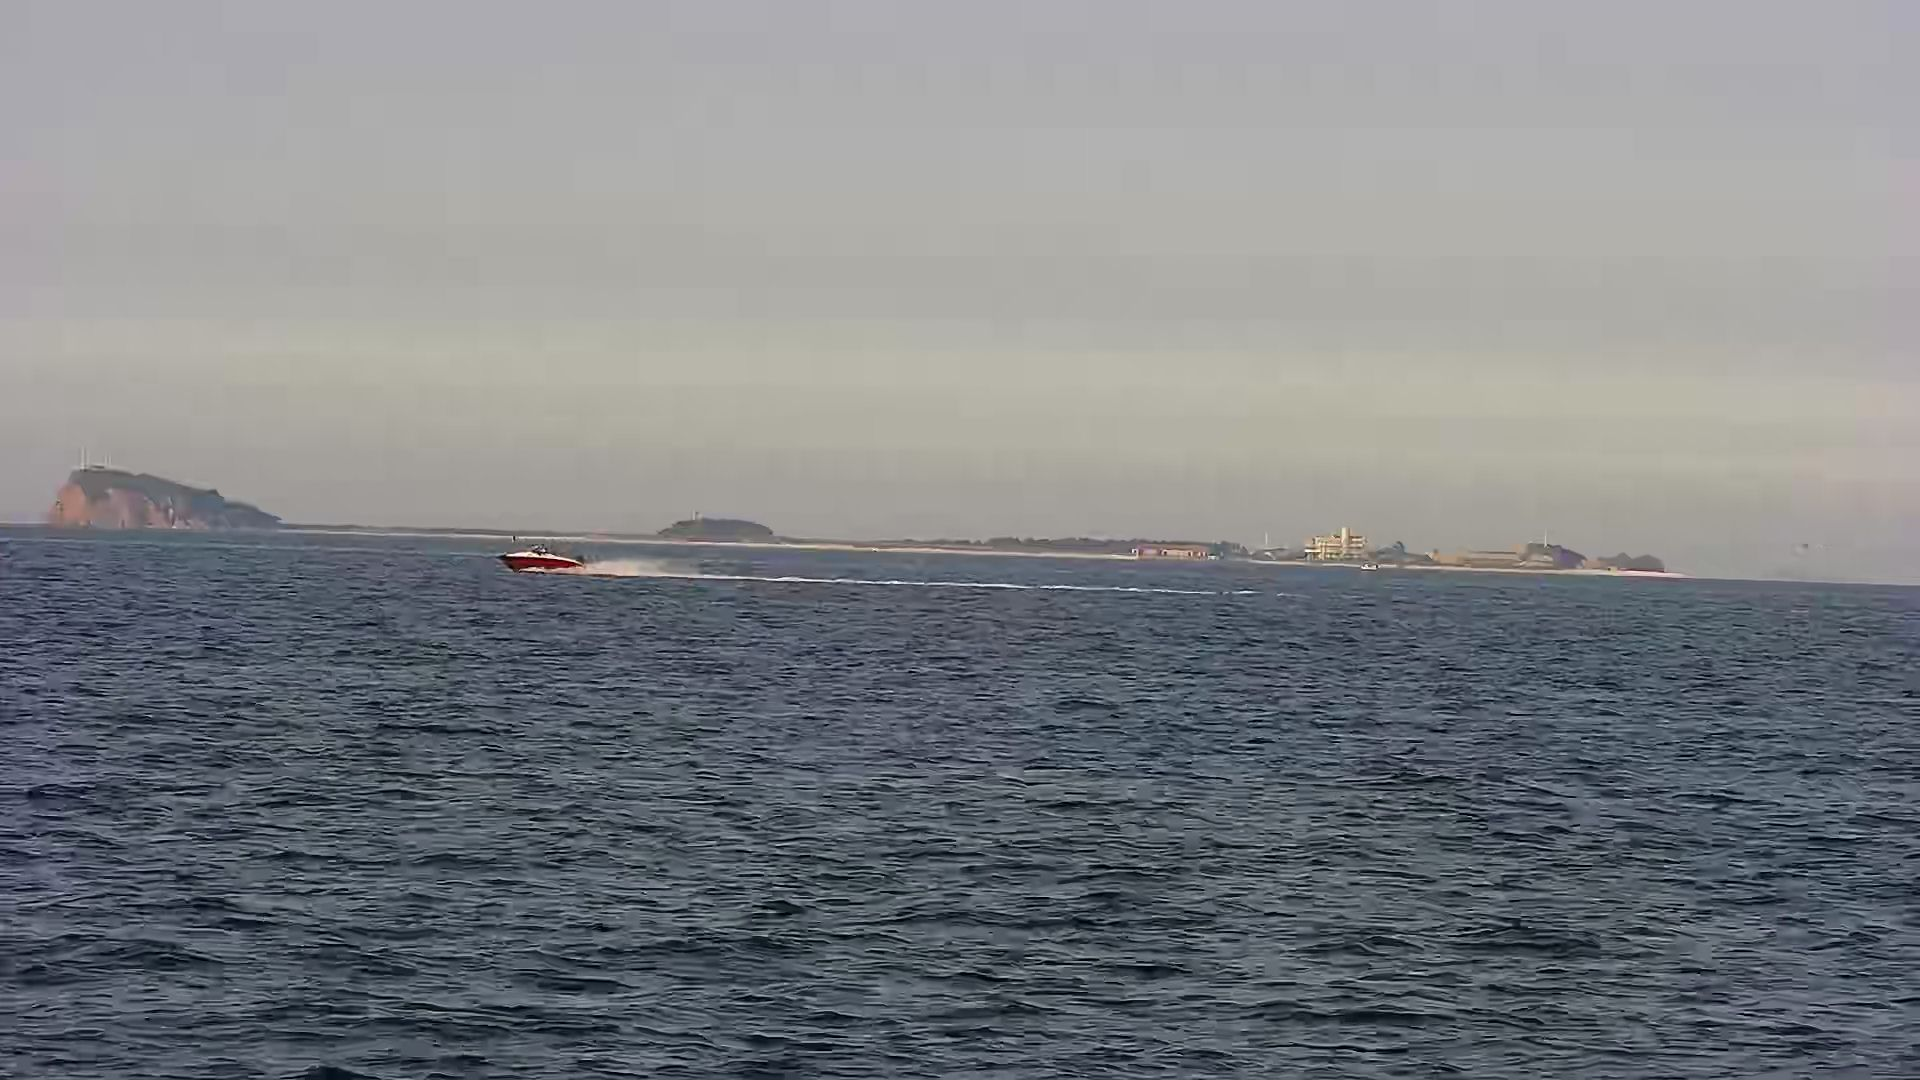boat: (495, 541, 582, 582)
